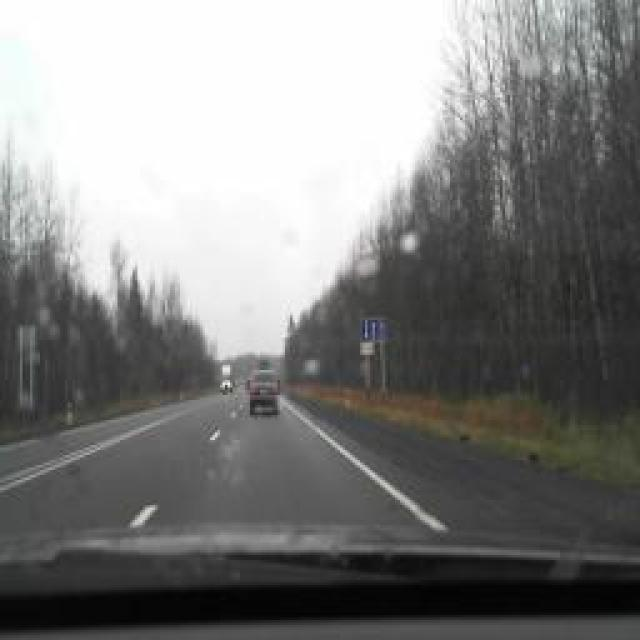sign: (361, 319, 389, 341)
